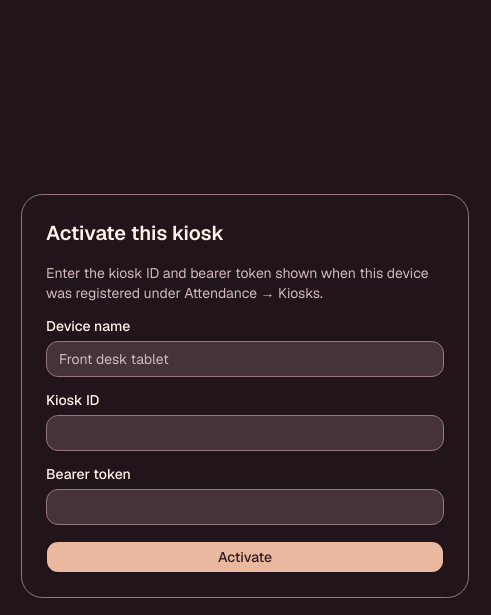
Test: KioskScreen › activates, stores credentials, and reaches employee selection
Expected: the heading "Activate this kiosk" is shown, [46,220,224,246]
Type "Front Desk" into the field labelled "Device name".
click(245, 359); type("Front Desk")  # box [46,341,444,377]
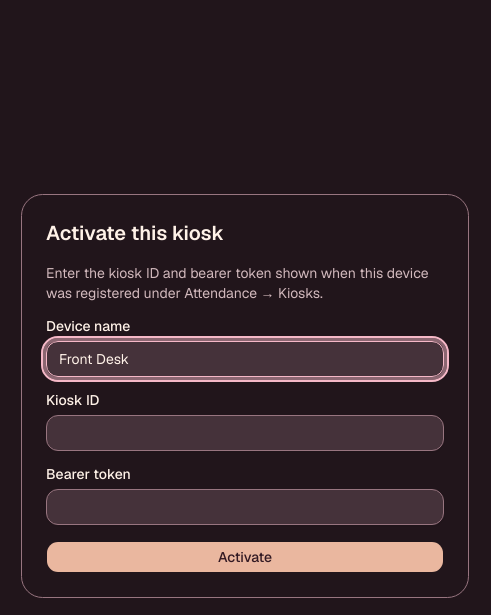
Type "kiosk-1" into the field labelled "Kiosk ID".
click(245, 433); type("kiosk-1")  # box [46,415,444,451]
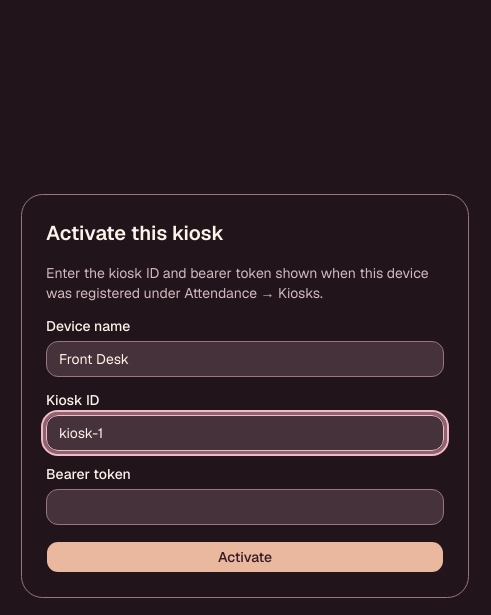
Type "token-1" into the field labelled "Bearer token".
click(245, 507); type("token-1")  # box [46,489,444,525]
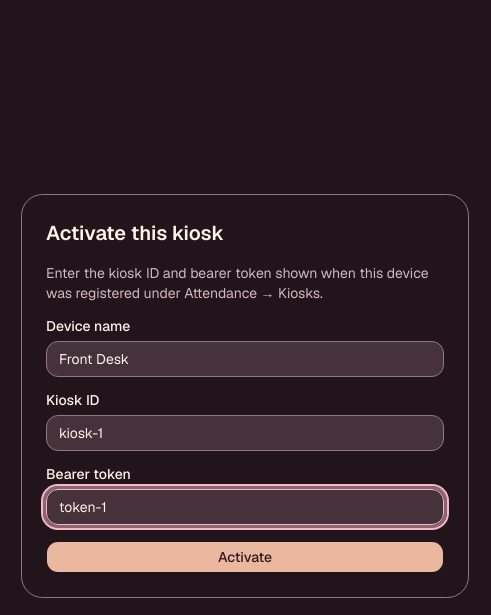
Click the button "Activate".
click(245, 557)  # box [46,541,444,573]
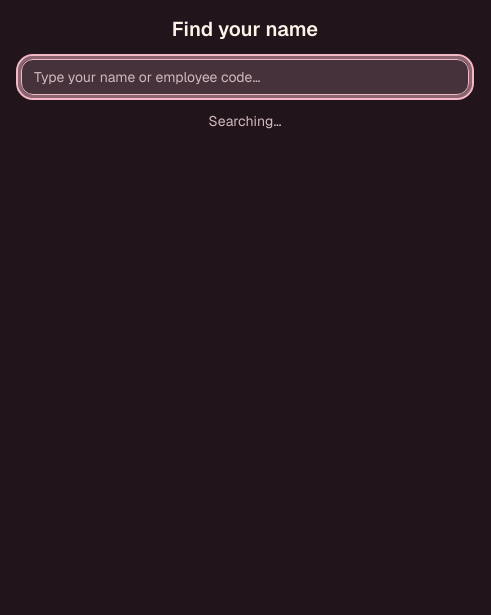
Now the heading "Find your name" is shown, box [172,16,318,42]
